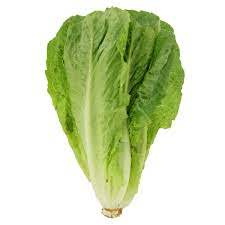lettuce: (46, 10, 177, 225)
